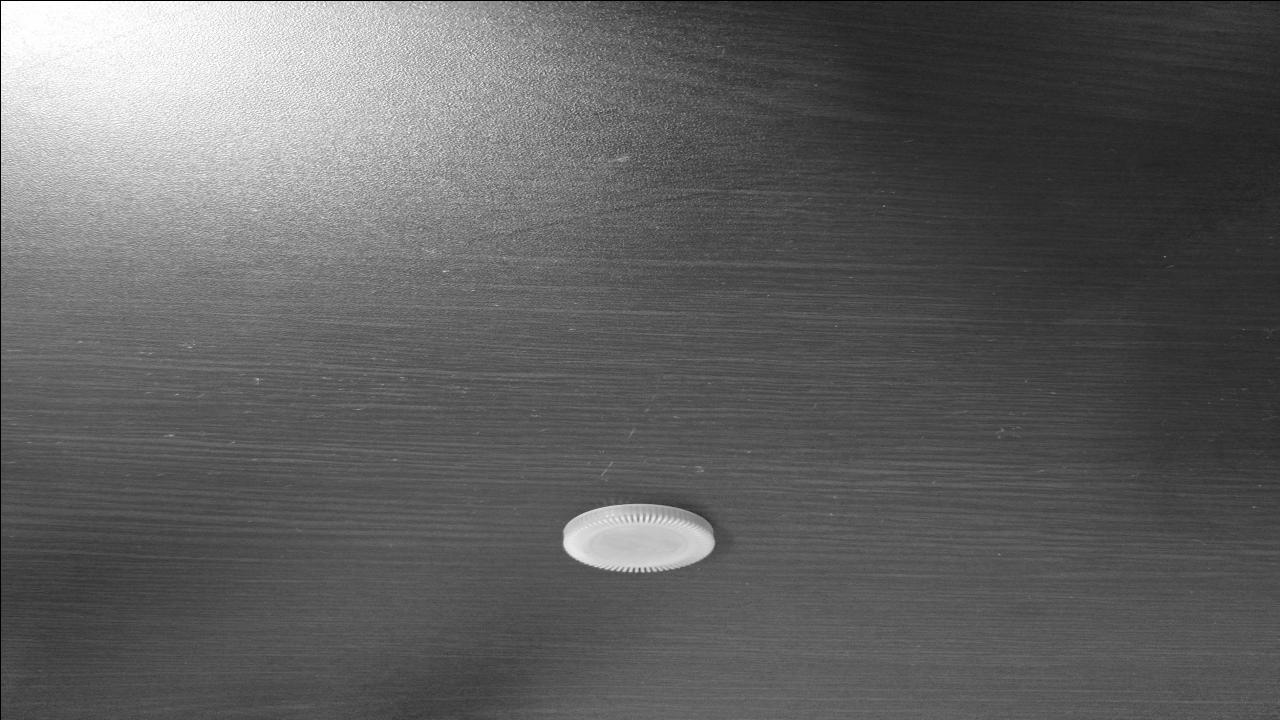bottle_cap: (554, 502, 718, 572)
